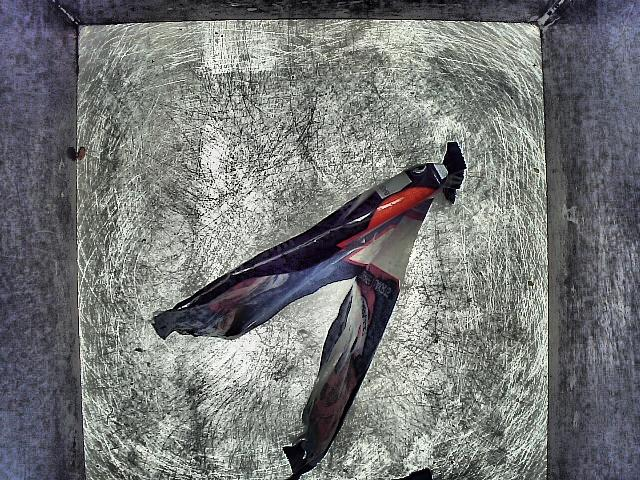Plastic: (152, 133, 474, 480)
